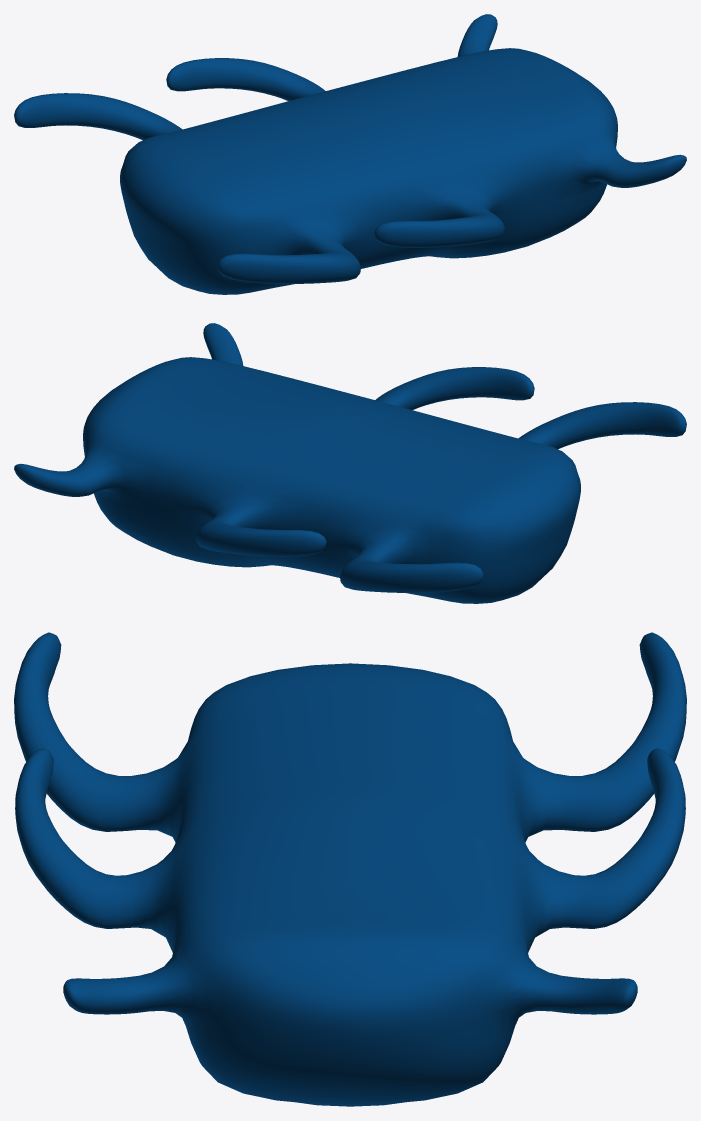
Rendered from blueroach.fbx.
The picture shows the model from 3 angles, top to bottom: view 1: azimuth 30°, elevation 25°; view 2: azimuth 150°, elevation 25°; view 3: azimuth 270°, elevation 25°; orthographic projection. The views are drawn at different scales.
Visible parts, largest first — view 1: pCube3; view 2: pCube3; view 3: pCube3.
Part boxes in pixels (x1,y1,x2,y2): pCube3: [14, 14, 686, 294]; pCube3: [14, 323, 686, 603]; pCube3: [14, 632, 686, 1106].
Bounding box in the file's own units: 2.35 × 0.7074 × 1.94.
